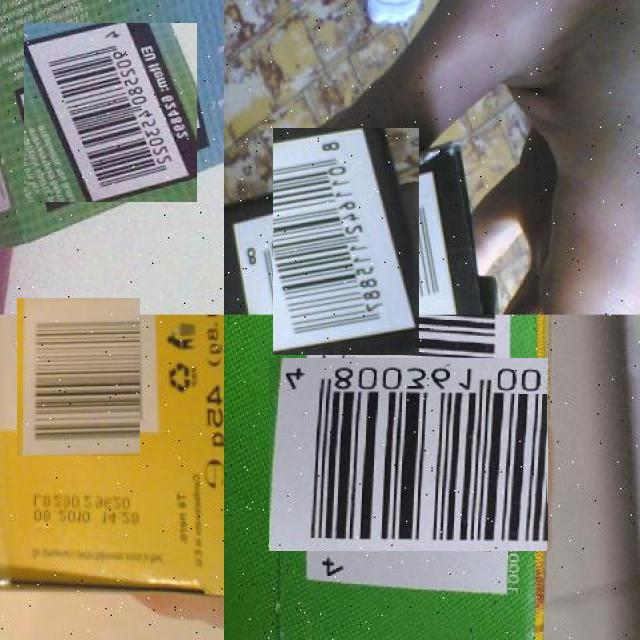Barcode: (290, 336, 527, 573), (253, 148, 440, 335), (22, 24, 199, 201), (9, 306, 150, 448)
